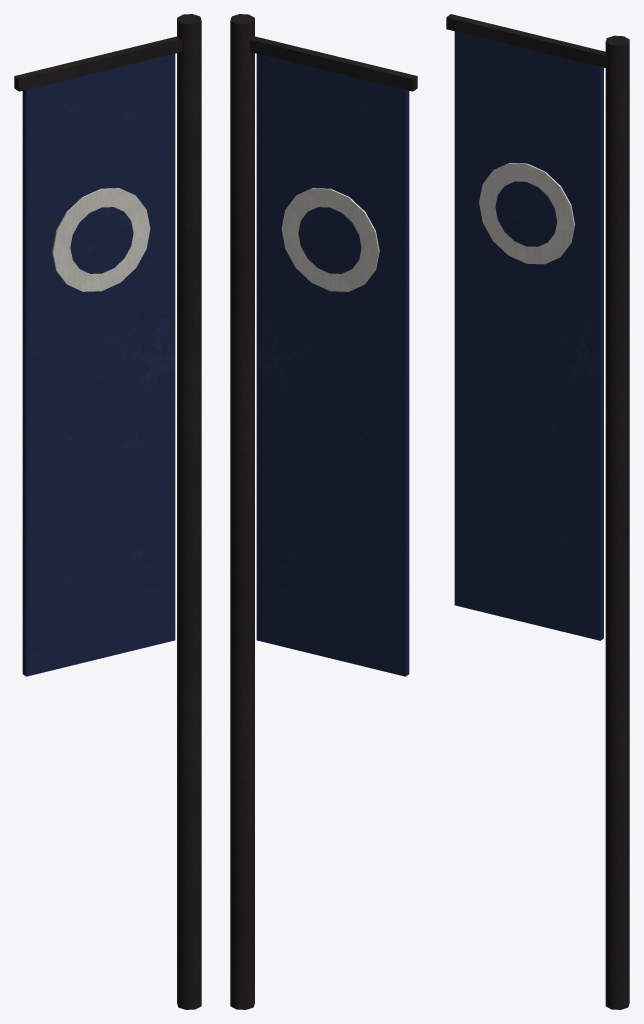
File: HO_Prop_Banner.fbx
The picture shows the model from 3 angles, left to right: view 1: azimuth 30°, elevation 25°; view 2: azimuth 150°, elevation 25°; view 3: azimuth 330°, elevation 25°; orthographic projection. The views are drawn at different scales.
Visible parts, largest first — view 1: HO_Prop_Banner__Cloth_Navy, HO_Prop_Banner__Black_Lacquer, HO_Prop_Banner__Cloth_White; view 2: HO_Prop_Banner__Cloth_Navy, HO_Prop_Banner__Black_Lacquer, HO_Prop_Banner__Cloth_White; view 3: HO_Prop_Banner__Cloth_Navy, HO_Prop_Banner__Black_Lacquer, HO_Prop_Banner__Cloth_White.
Boxes of the visible parts, x1=… form: HO_Prop_Banner__Cloth_Navy: x1=22, y1=53, x2=175, y2=676; HO_Prop_Banner__Black_Lacquer: x1=14, y1=14, x2=201, y2=1009; HO_Prop_Banner__Cloth_White: x1=52, y1=188, x2=150, y2=291; HO_Prop_Banner__Cloth_Navy: x1=256, y1=53, x2=409, y2=676; HO_Prop_Banner__Black_Lacquer: x1=230, y1=14, x2=417, y2=1009; HO_Prop_Banner__Cloth_White: x1=281, y1=188, x2=379, y2=291; HO_Prop_Banner__Cloth_Navy: x1=454, y1=31, x2=603, y2=640; HO_Prop_Banner__Black_Lacquer: x1=446, y1=14, x2=629, y2=1009; HO_Prop_Banner__Cloth_White: x1=479, y1=163, x2=574, y2=264.
Bounding box in the file's own units: 2.34 × 12 × 0.28.
